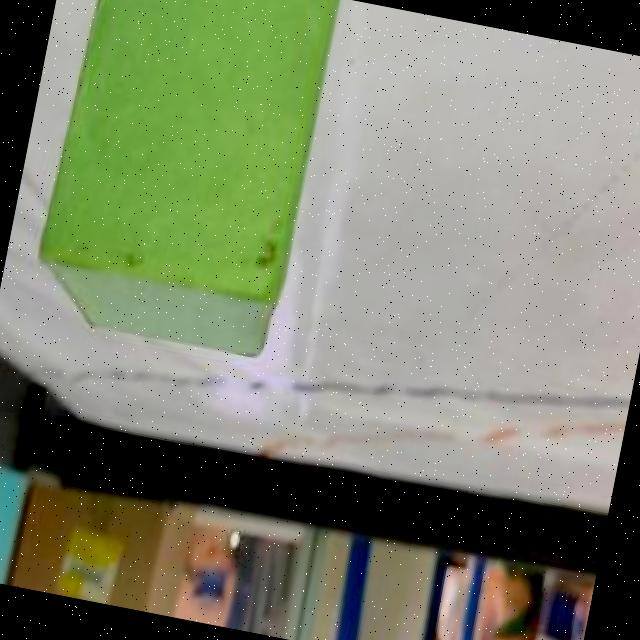greenbox: (24, 0, 345, 367)
